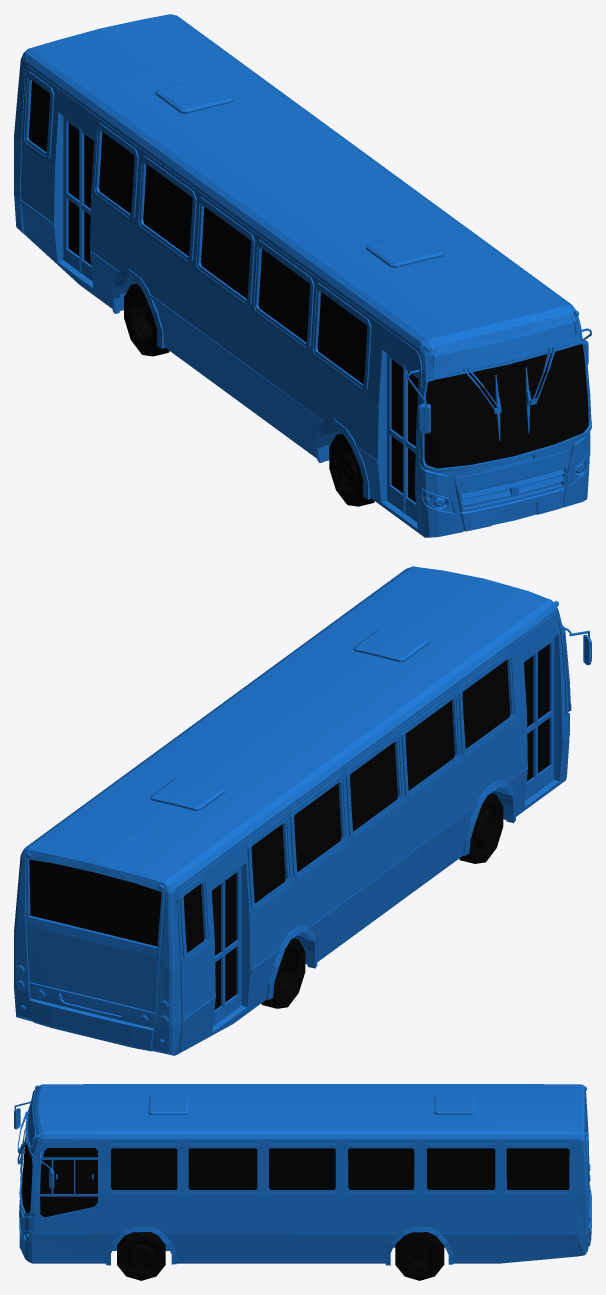
File: HALF_bus.fbx
3 views of the same model, one above another, from view 1: azimuth 30°, elevation 25°; view 2: azimuth 150°, elevation 25°; view 3: azimuth 270°, elevation 25° (orthographic). The views are drawn at different scales.
Visible parts, largest first — view 1: Symmetry_1, Cylinder_2, Cylinder_5; view 2: Symmetry_1, Cylinder_2, Cylinder_5; view 3: Symmetry_1, Cylinder_5, Cylinder_3.
Boxes of the visible parts, x1,y1,x2,y2 form: Symmetry_1: [14, 14, 591, 537]; Cylinder_2: [329, 433, 374, 506]; Cylinder_5: [124, 283, 169, 356]; Symmetry_1: [14, 566, 591, 1055]; Cylinder_2: [459, 793, 503, 863]; Cylinder_5: [261, 938, 305, 1008]; Symmetry_1: [14, 1084, 591, 1265]; Cylinder_5: [395, 1232, 444, 1280]; Cylinder_3: [117, 1232, 165, 1280].
Size of the model in its own units: 297 by 325 by 1123.
